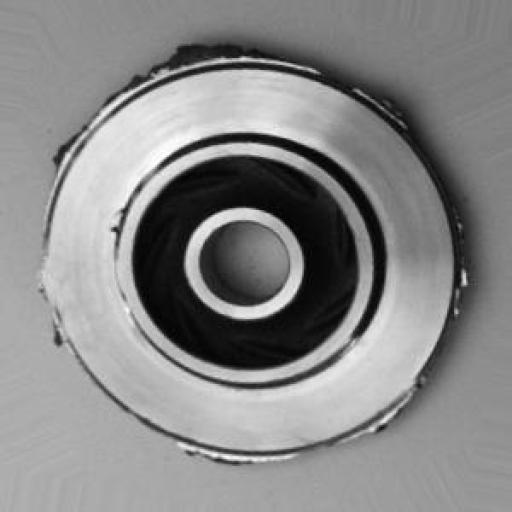defect: (30, 33, 489, 453)
